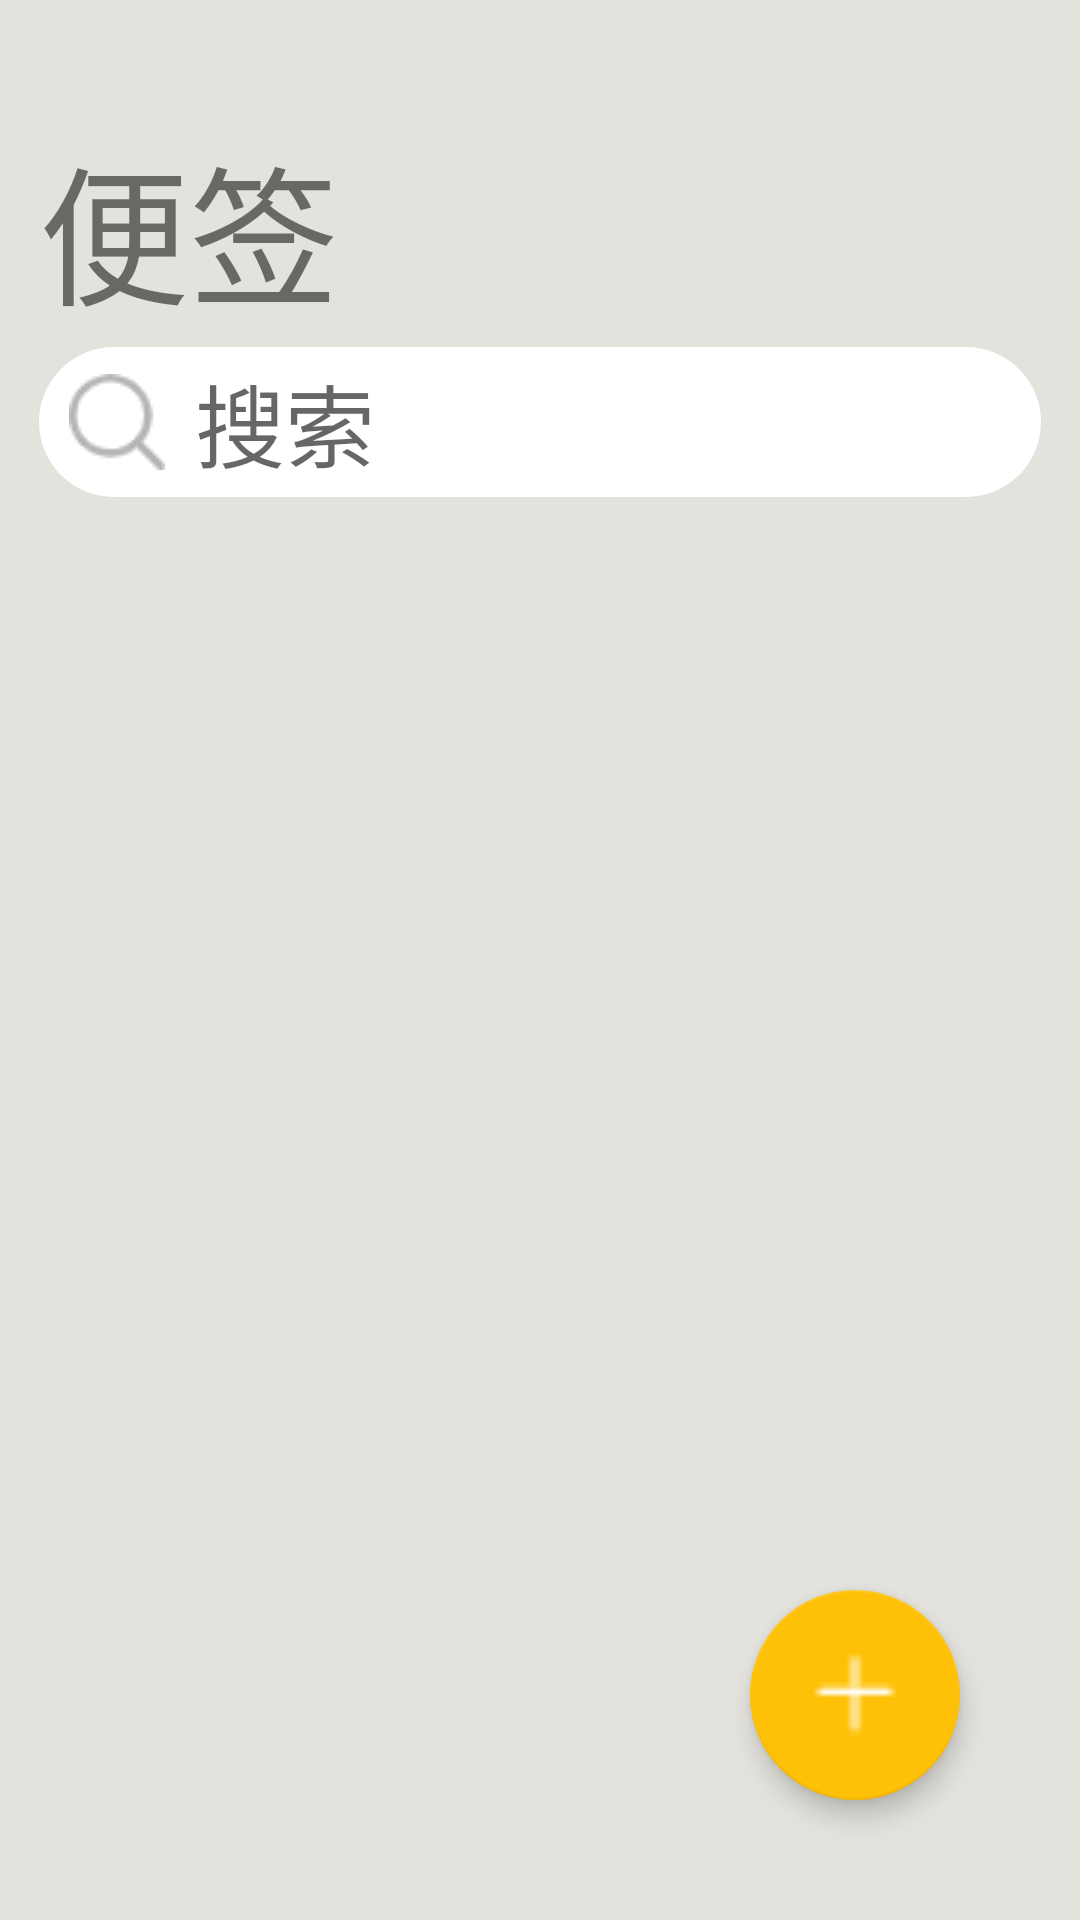

Named icons in this screenshot (1080x1920) and their bounding boxes, (x1,y1,x2,y2):
add: (750,1590,960,1800)
